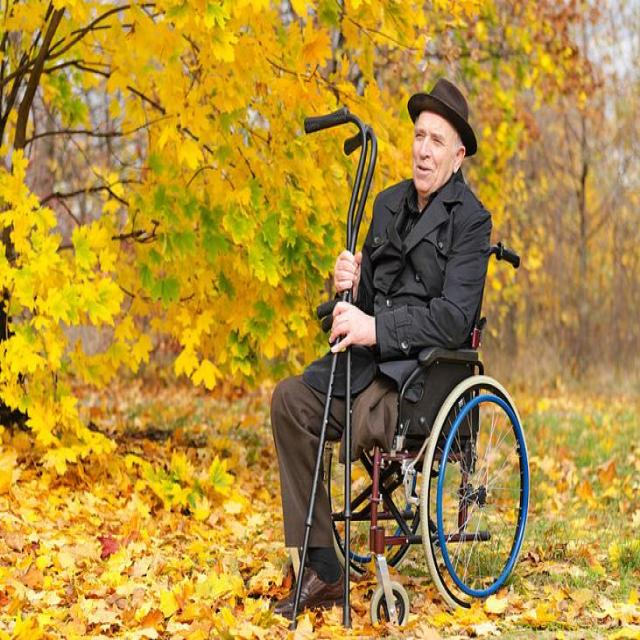wheelchairs: (285, 222, 533, 636)
